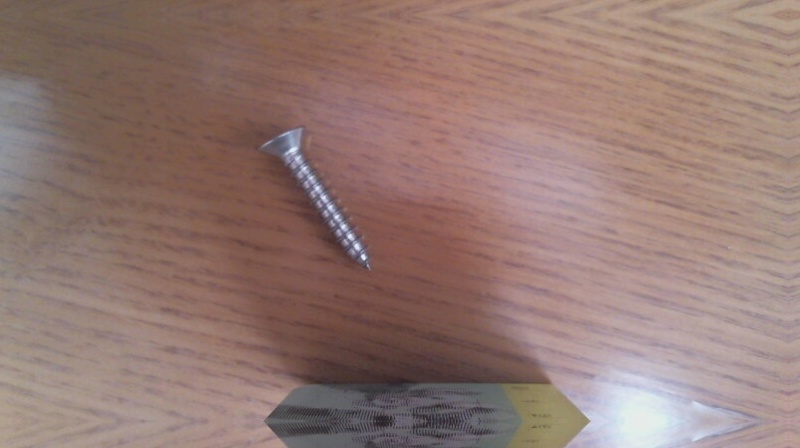S001: (254, 121, 378, 277)
